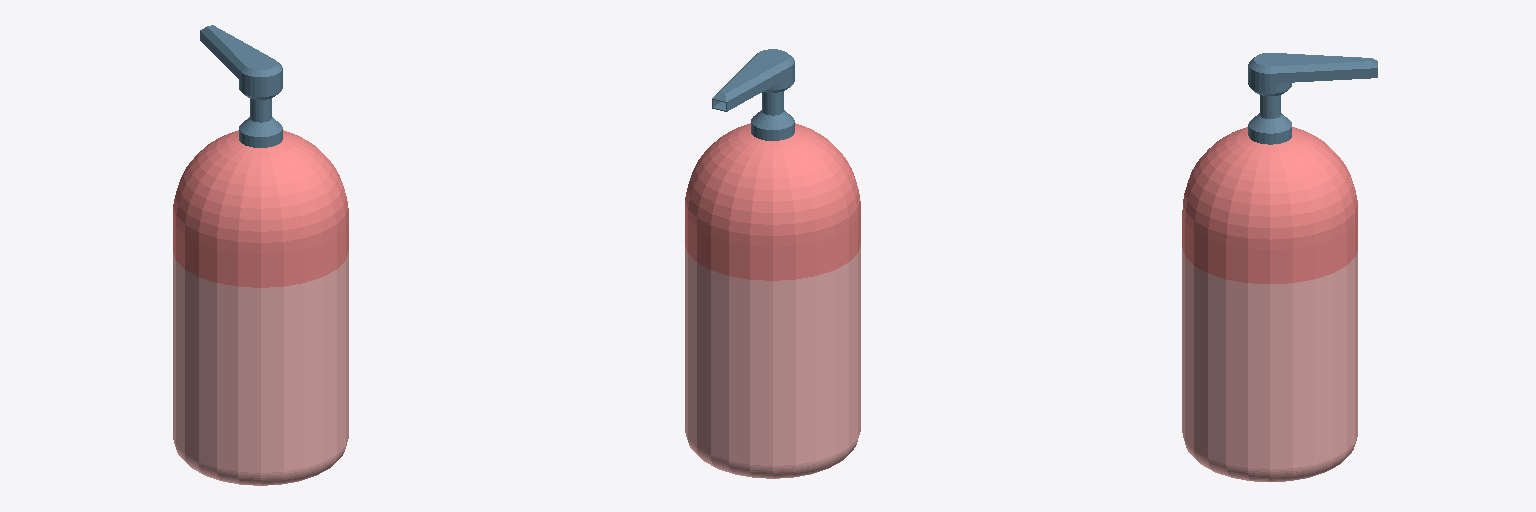
Rendered from soap.obj.
3 views of the same model, side by side, from view 1: azimuth 30°, elevation 25°; view 2: azimuth 150°, elevation 25°; view 3: azimuth 270°, elevation 25° (orthographic).
Parts seen in each view (by area): view 1: Mesh3 Model, Mesh2 Model, Mesh1 Model; view 2: Mesh3 Model, Mesh2 Model, Mesh1 Model; view 3: Mesh3 Model, Mesh2 Model, Mesh1 Model.
Part boxes in pixels (left/top/right/bottom): Mesh3 Model: left=173, top=130, right=348, bottom=485; Mesh2 Model: left=200, top=25, right=282, bottom=99; Mesh1 Model: left=239, top=117, right=282, bottom=147; Mesh3 Model: left=685, top=123, right=860, bottom=478; Mesh2 Model: left=712, top=49, right=794, bottom=111; Mesh1 Model: left=751, top=110, right=794, bottom=140; Mesh3 Model: left=1182, top=127, right=1357, bottom=481; Mesh2 Model: left=1248, top=53, right=1377, bottom=95; Mesh1 Model: left=1248, top=113, right=1291, bottom=144.
Size of the model in its own units: 0.08 by 0.197 by 0.0887.